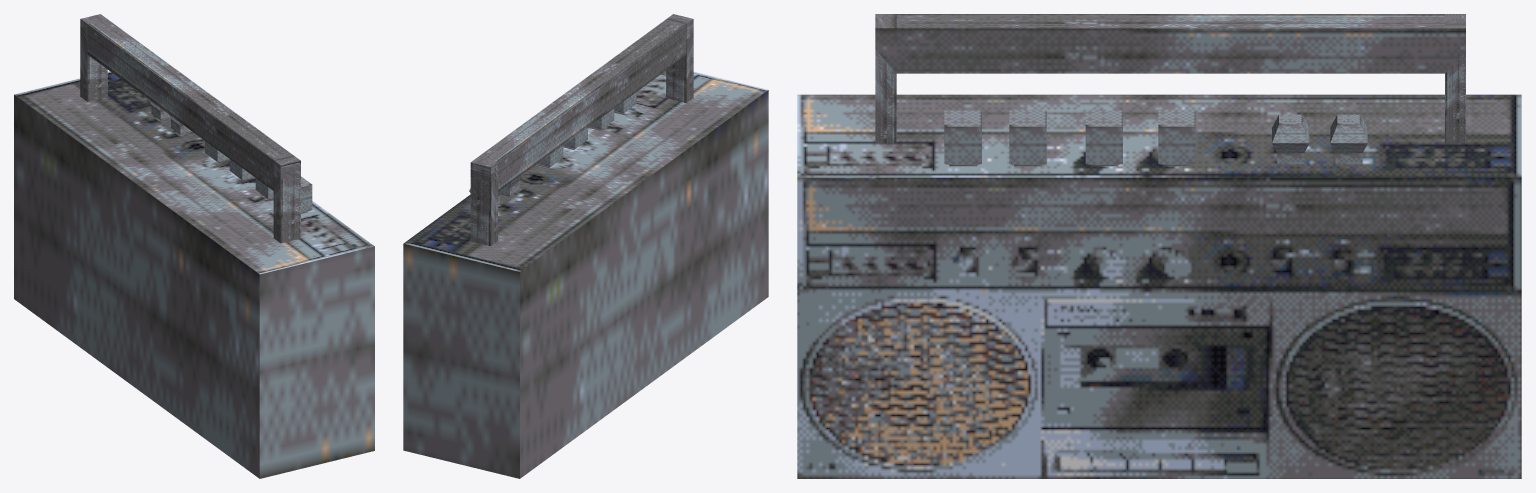
The model's file is Radio Psx.fbx.
3 renders of one model, left to right at view 1: azimuth 30°, elevation 25°; view 2: azimuth 150°, elevation 25°; view 3: azimuth 270°, elevation 25°, orthographic. The views are drawn at different scales.
Parts seen in each view (by area): view 1: rADIO1; view 2: rADIO1; view 3: rADIO1.
Boxes of the visible parts, bbox=[...] form: rADIO1: bbox=[14, 14, 374, 478]; rADIO1: bbox=[403, 14, 768, 478]; rADIO1: bbox=[797, 14, 1521, 478].
Bounding box in the file's own units: 1 × 2.35 × 3.7.
Materials: 1 (1 with a texture image).
